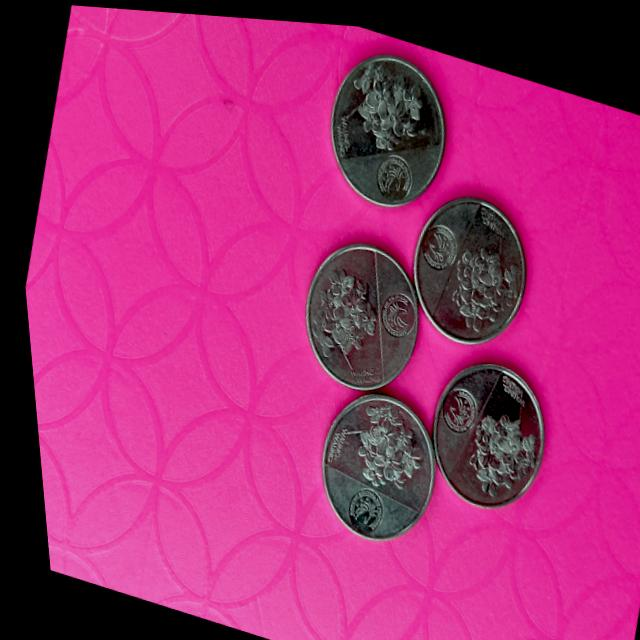1_New_Back: (443, 370, 552, 506), (286, 250, 390, 376), (327, 47, 437, 164), (315, 382, 428, 495), (426, 212, 528, 330)
